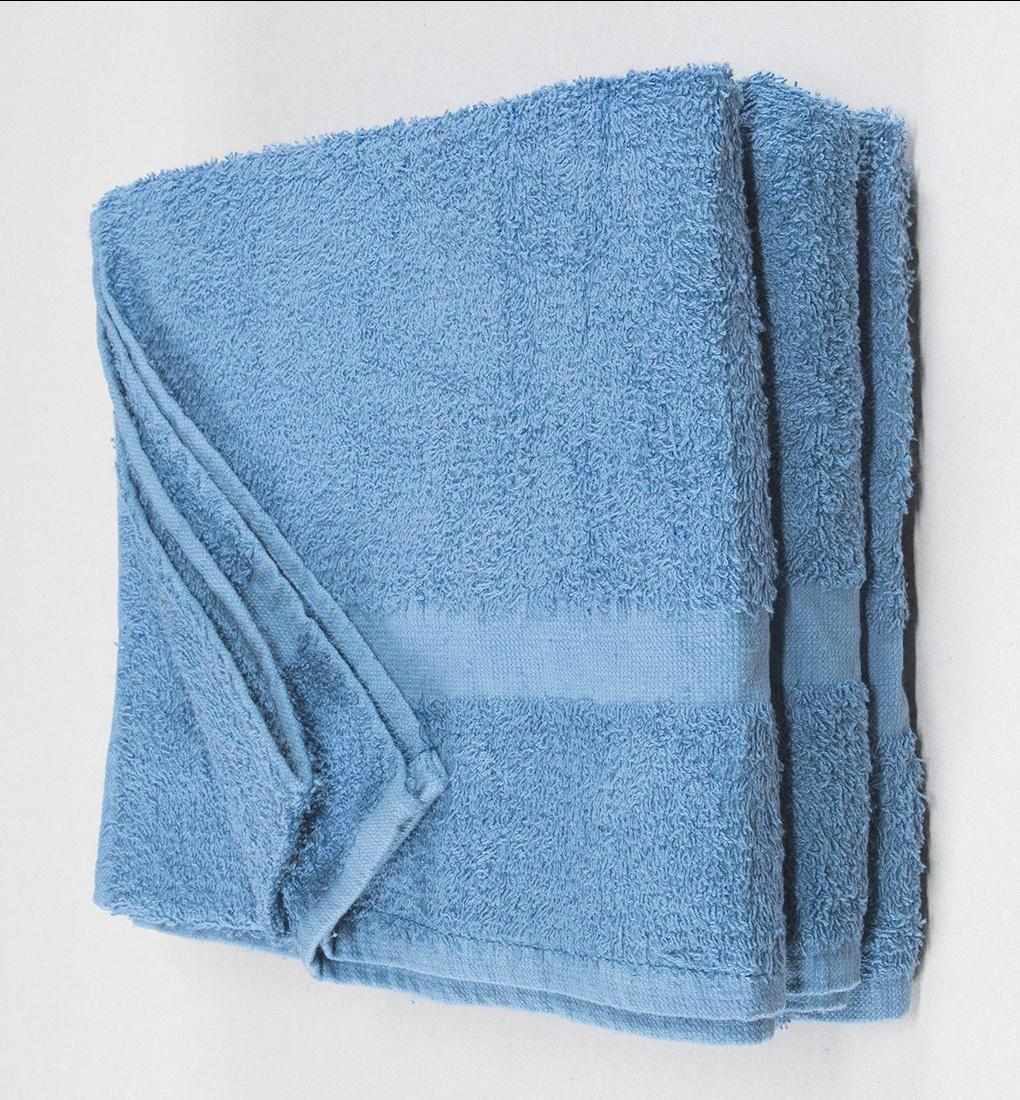towel: (62, 67, 985, 1065)
